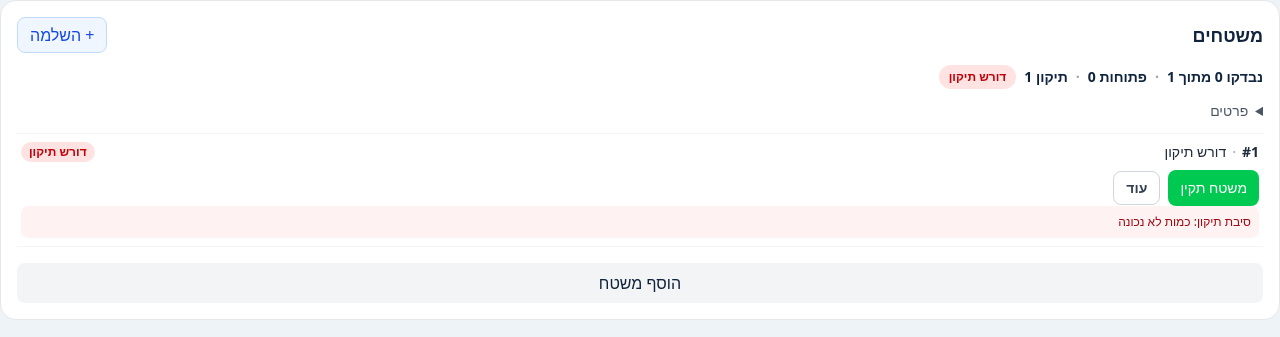
ManualOrderCheckUnitsPanel › returned state does not expose all actions simultaneously
Expected: the text "#1" is shown, [1242, 142, 1259, 162]
Expected: the button "משטח תקין" is shown, [1168, 170, 1259, 206]
Click the heading "עוד".
click(1137, 188)  # box [1113, 171, 1160, 205]
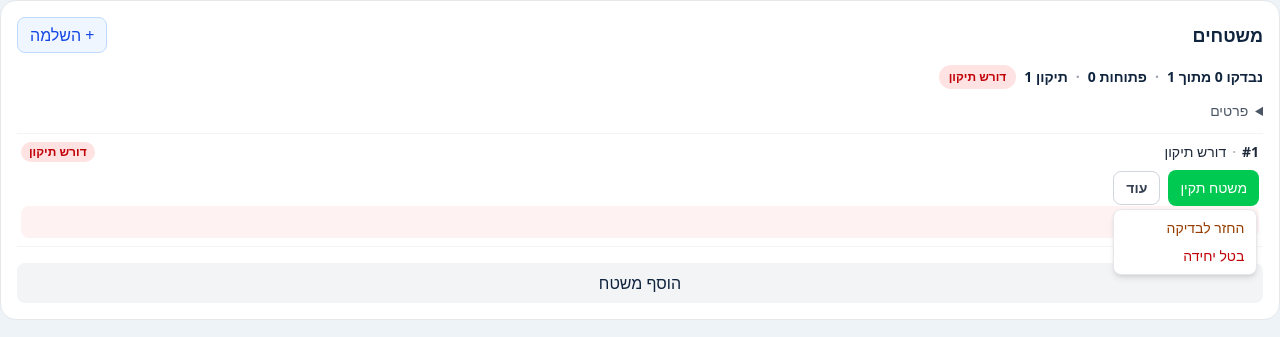
Expected: the text "דורש תיקון" in the row of "פתוחות" is shown, [949, 68, 1006, 85]
Expected: the button "החזר לבדיקה" is shown, [1118, 214, 1252, 242]
Expected: the button "בטל יחידה" is shown, [1118, 242, 1252, 270]
